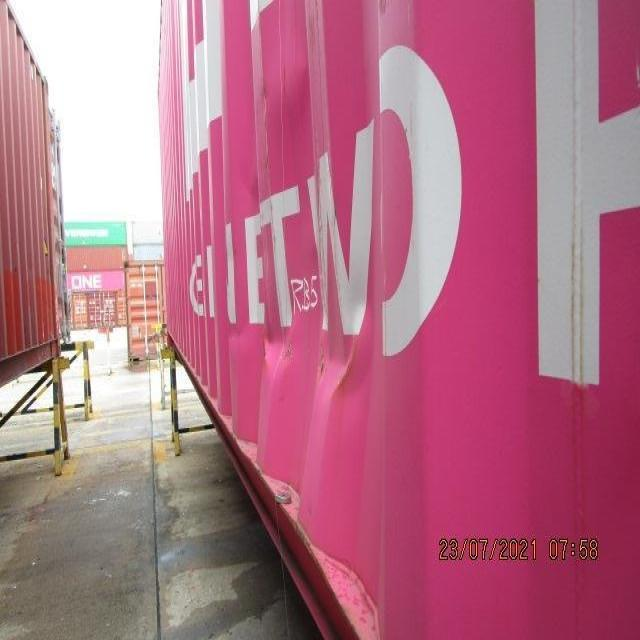dent: (223, 192, 395, 462)
